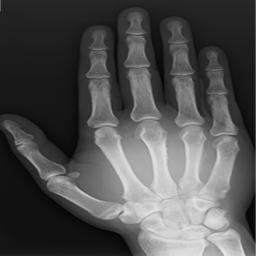cancer: (199, 137, 239, 206)
